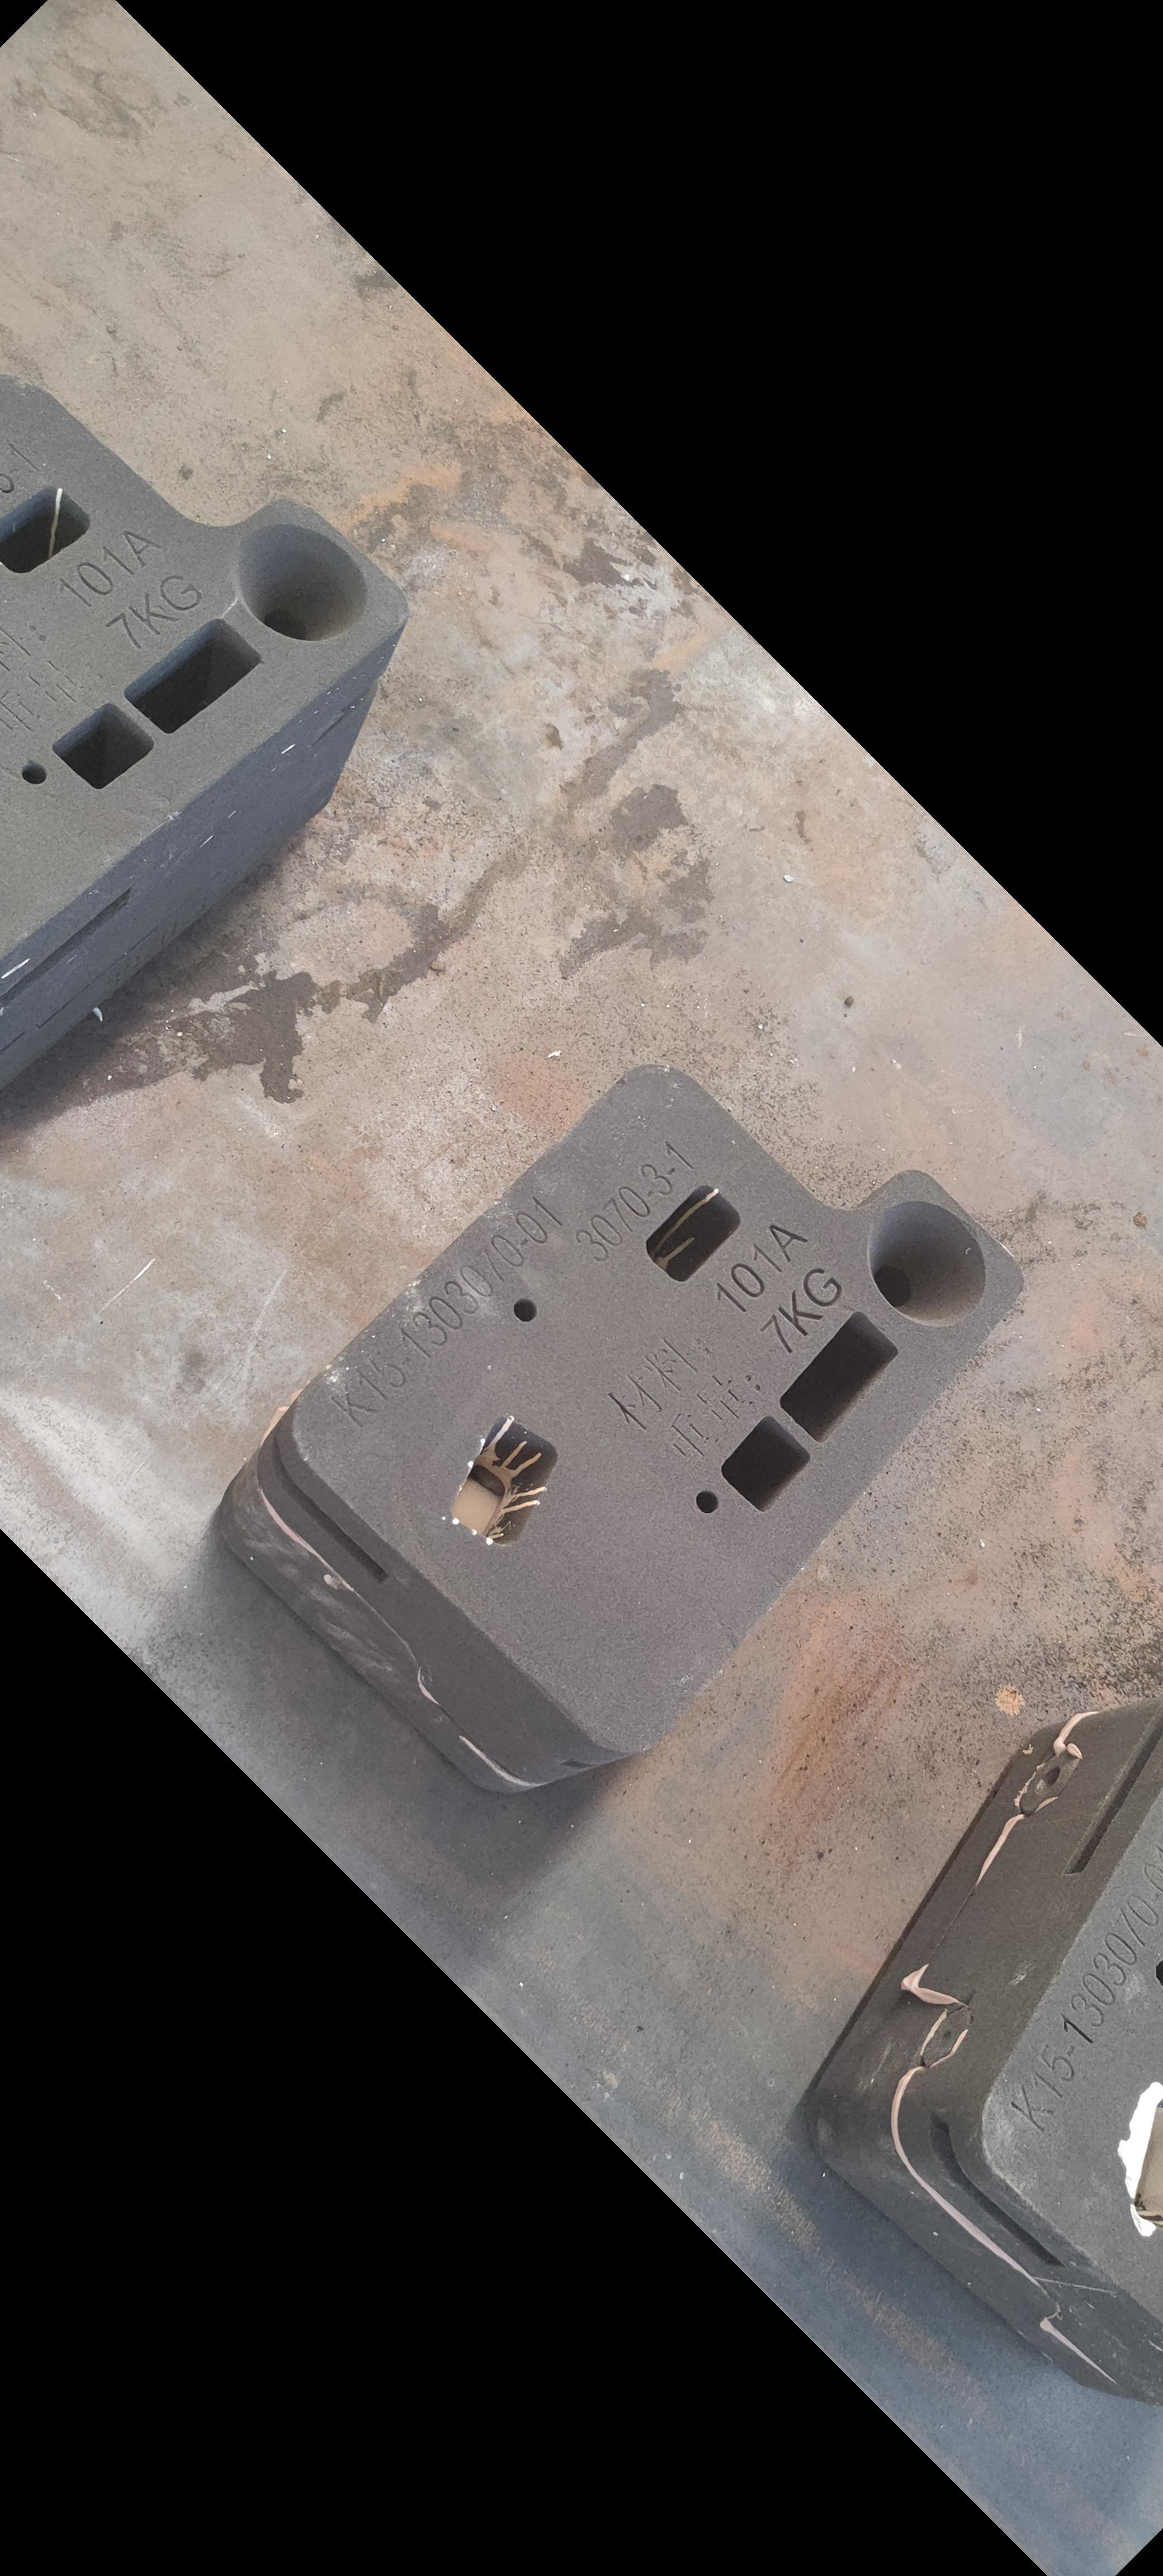pouring hole: (233, 522, 368, 644), (869, 1199, 986, 1326)
